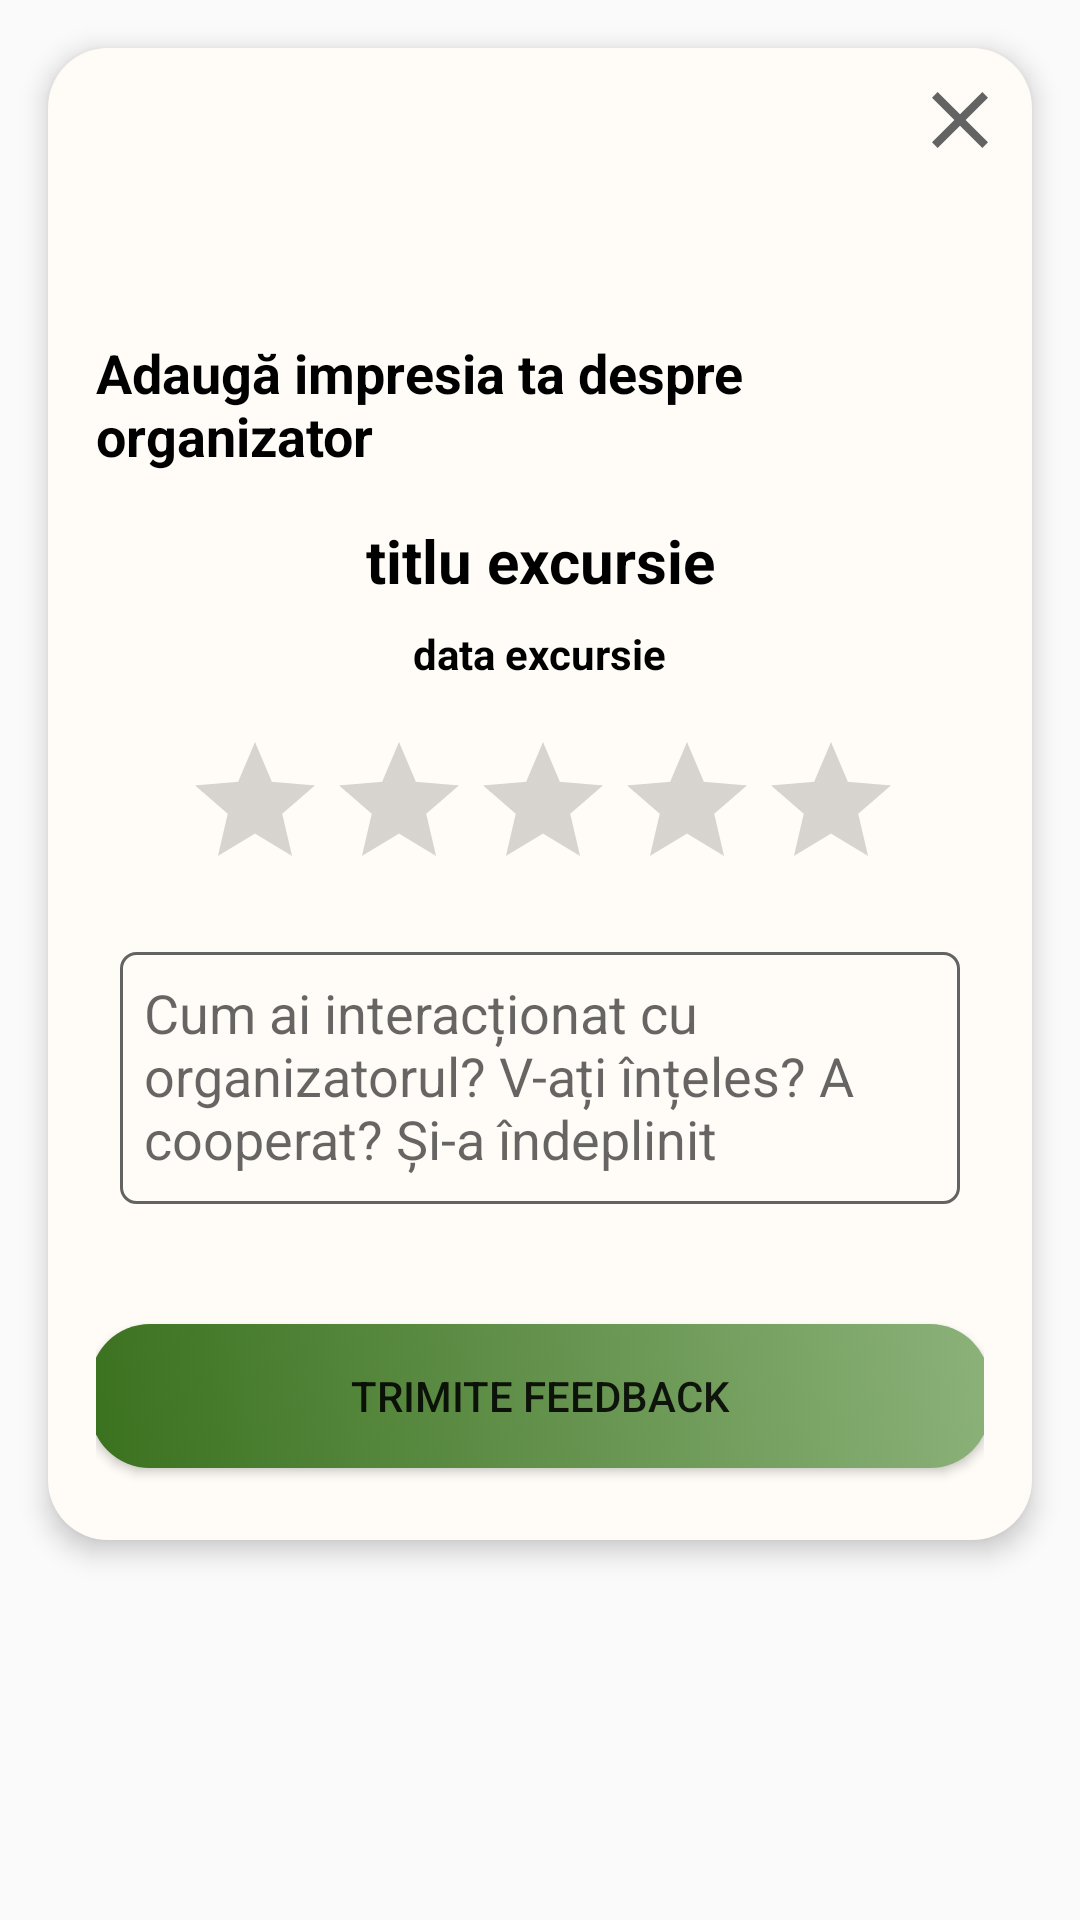

Named icons in this screenshot (1080 × 1920) and their centers, point (x, y):
close: point (960, 120)
